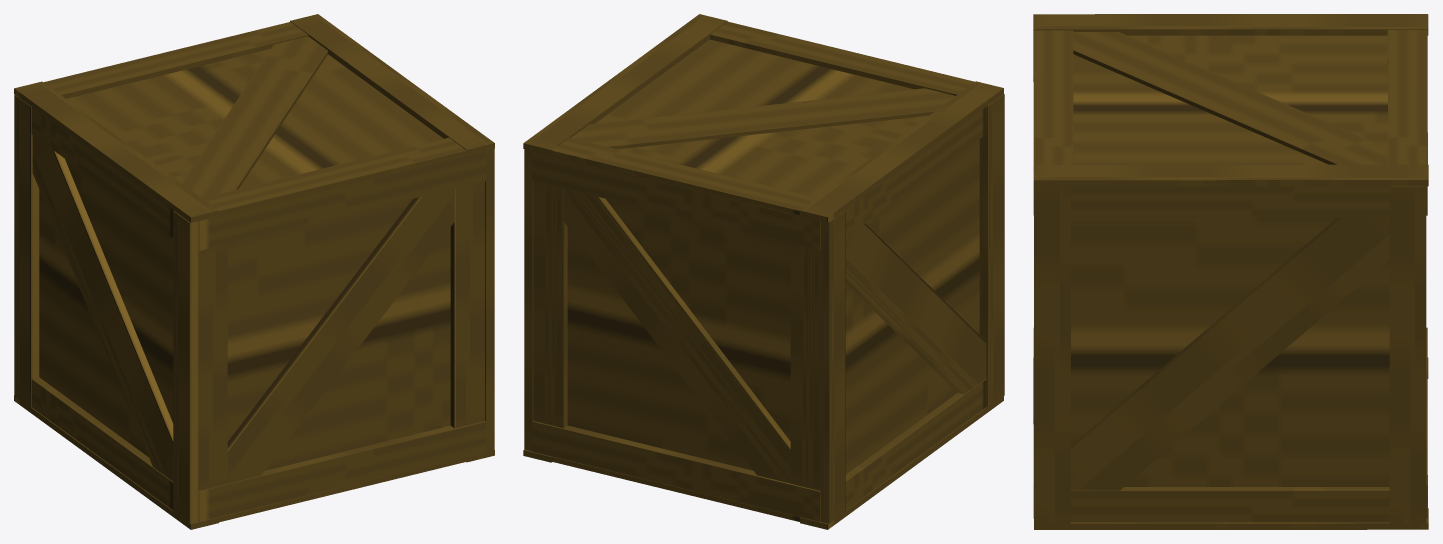
The model's file is caisse1.obj.
The picture shows the model from 3 angles, left to right: view 1: azimuth 30°, elevation 25°; view 2: azimuth 150°, elevation 25°; view 3: azimuth 270°, elevation 25°; orthographic projection. The views are drawn at different scales.
Visible parts, largest first — view 1: Cube, Cube.015, Cube.014, Cube.005, Cube.002, Cube.013, Cube.001, Cube.004, Cube.010, Cube.003, Cube.011, Cube.006 (+4 smaller); view 2: Cube, Cube.015, Cube.006, Cube.014, Cube.013, Cube.002, Cube.001, Cube.004, Cube.010, Cube.003, Cube.012, Cube.005 (+4 smaller); view 3: Cube, Cube.014, Cube.006, Cube.005, Cube.013, Cube.009, Cube.007, Cube.008, Cube.010, Cube.011, Cube.012, Cube.002.
Part boxes in pixels (<box>): Cube: <box>39,49,450,470</box>; Cube.015: <box>227,189,454,483</box>; Cube.014: <box>32,135,173,481</box>; Cube.005: <box>173,149,494,524</box>; Cube.002: <box>198,421,486,521</box>; Cube.013: <box>182,36,327,197</box>; Cube.001: <box>198,151,486,251</box>; Cube.004: <box>450,181,484,428</box>; Cube.010: <box>14,81,218,529</box>; Cube.003: <box>198,244,227,490</box>; Cube.011: <box>202,137,467,522</box>; Cube.006: <box>14,94,39,407</box>; Cube: <box>567,39,979,474</box>; Cube.015: <box>564,188,790,483</box>; Cube.006: <box>524,149,845,523</box>; Cube.014: <box>845,223,986,394</box>; Cube.013: <box>571,88,955,149</box>; Cube.002: <box>532,421,820,521</box>; Cube.001: <box>532,151,820,250</box>; Cube.004: <box>533,181,567,428</box>; Cube.010: <box>800,81,1003,529</box>; Cube.003: <box>790,244,820,490</box>; Cube.012: <box>551,137,816,521</box>; Cube.005: <box>979,94,1004,407</box>; Cube: <box>1071,35,1389,486</box>; Cube.014: <box>1071,217,1389,490</box>; Cube.006: <box>1389,186,1426,523</box>; Cube.005: <box>1034,186,1070,523</box>; Cube.013: <box>1073,32,1387,164</box>; Cube.009: <box>1034,164,1428,529</box>; Cube.007: <box>1071,487,1389,522</box>; Cube.008: <box>1071,186,1389,217</box>; Cube.010: <box>1033,14,1428,378</box>; Cube.011: <box>1033,30,1073,423</box>; Cube.012: <box>1387,30,1427,507</box>; Cube.002: <box>1033,327,1427,518</box>.
Bounding box in the file's own units: 0.5298 × 0.5188 × 0.5314.
